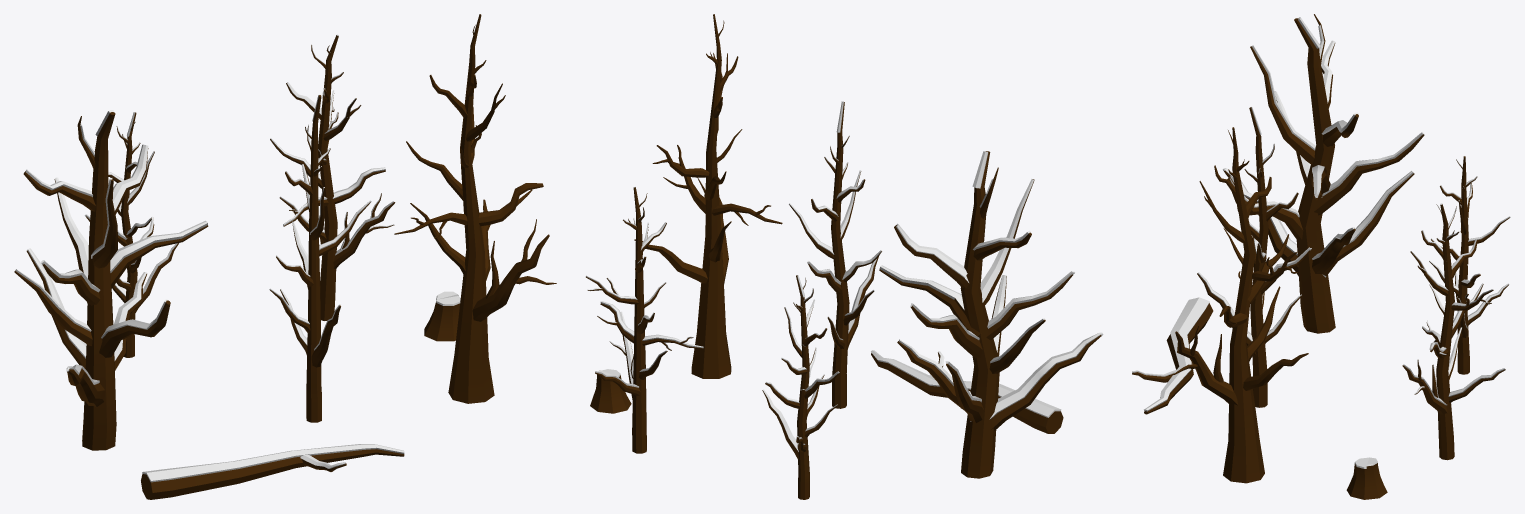
Rendered from deathtreemountain_lev5.glb.
3 views of the same model, side by side, from view 1: azimuth 30°, elevation 25°; view 2: azimuth 150°, elevation 25°; view 3: azimuth 270°, elevation 25° (orthographic). The views are drawn at different scales.
Visible parts, largest first — view 1: Dead_tree_1.003, Father_tree.003, polySurface70.007, Dead_tree_3.003, Dead_branch.003, Dead_tree_2.003, Tree_stump.003; view 2: Dead_tree_1.003, Father_tree.003, polySurface70.007, Dead_tree_3.003, Dead_tree_2.003, Dead_branch.003, Tree_stump.003; view 3: Dead_tree_1.003, Father_tree.003, Dead_tree_3.003, polySurface70.007, Dead_tree_2.003, Dead_branch.003, Tree_stump.003.
Boxes of the visible parts, x1,y1,x2,y2 form: Dead_tree_1.003: (14, 110, 208, 450); Father_tree.003: (394, 14, 556, 403); polySurface70.007: (269, 94, 371, 422); Dead_tree_3.003: (270, 34, 395, 320); Dead_branch.003: (141, 444, 404, 499); Dead_tree_2.003: (84, 112, 178, 357); Tree_stump.003: (424, 291, 460, 341); Dead_tree_1.003: (879, 151, 1103, 478); Father_tree.003: (634, 14, 782, 378); polySurface70.007: (789, 101, 881, 408); Dead_tree_3.003: (586, 187, 703, 453); Dead_tree_2.003: (762, 275, 839, 499); Dead_branch.003: (871, 350, 1063, 433); Tree_stump.003: (590, 369, 631, 413); Dead_tree_1.003: (1223, 14, 1424, 333); Father_tree.003: (1169, 127, 1308, 483); Dead_tree_3.003: (1402, 203, 1505, 460); polySurface70.007: (1197, 107, 1311, 407); Dead_tree_2.003: (1429, 155, 1510, 374); Dead_branch.003: (1132, 297, 1213, 414); Tree_stump.003: (1346, 457, 1387, 499).
Size of the model in its own units: 29.37 by 22.65 by 22.21.
